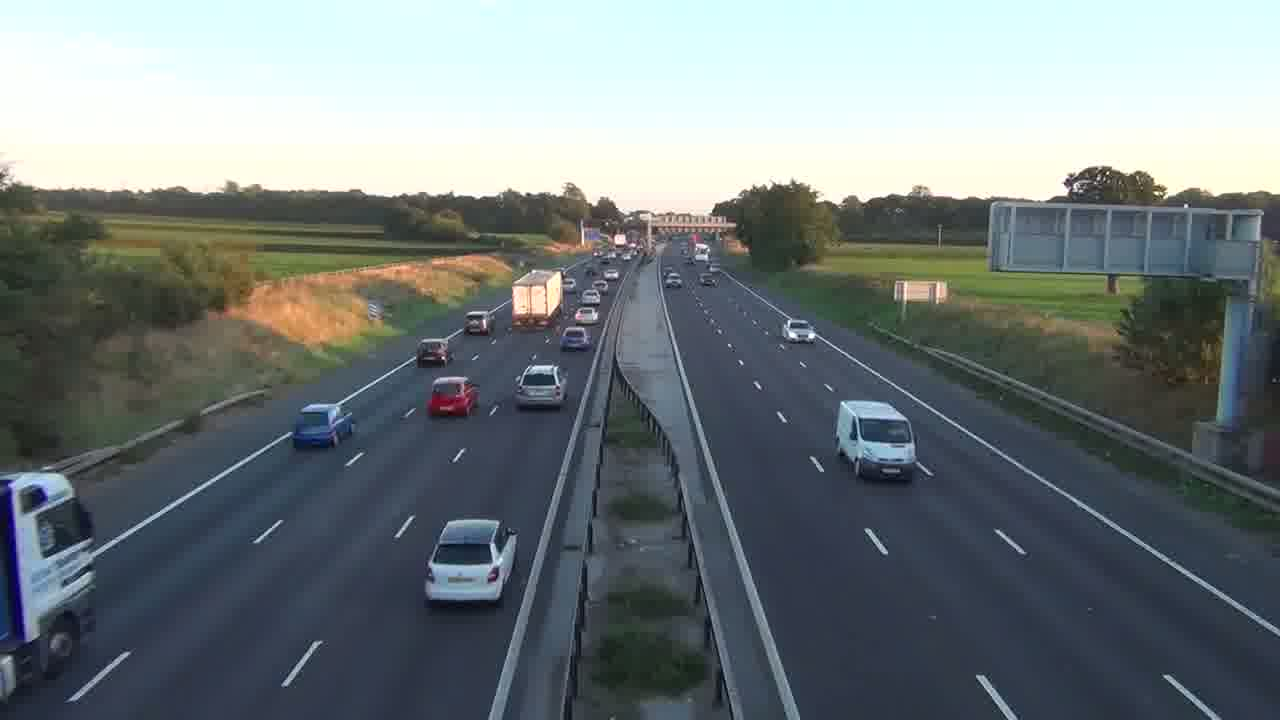car: (424, 517, 519, 607), (292, 402, 355, 449), (513, 364, 568, 410), (426, 375, 480, 418), (783, 318, 817, 343), (560, 326, 593, 351), (574, 305, 599, 326), (664, 273, 682, 288)
truck: (0, 469, 98, 703), (834, 399, 917, 482)
